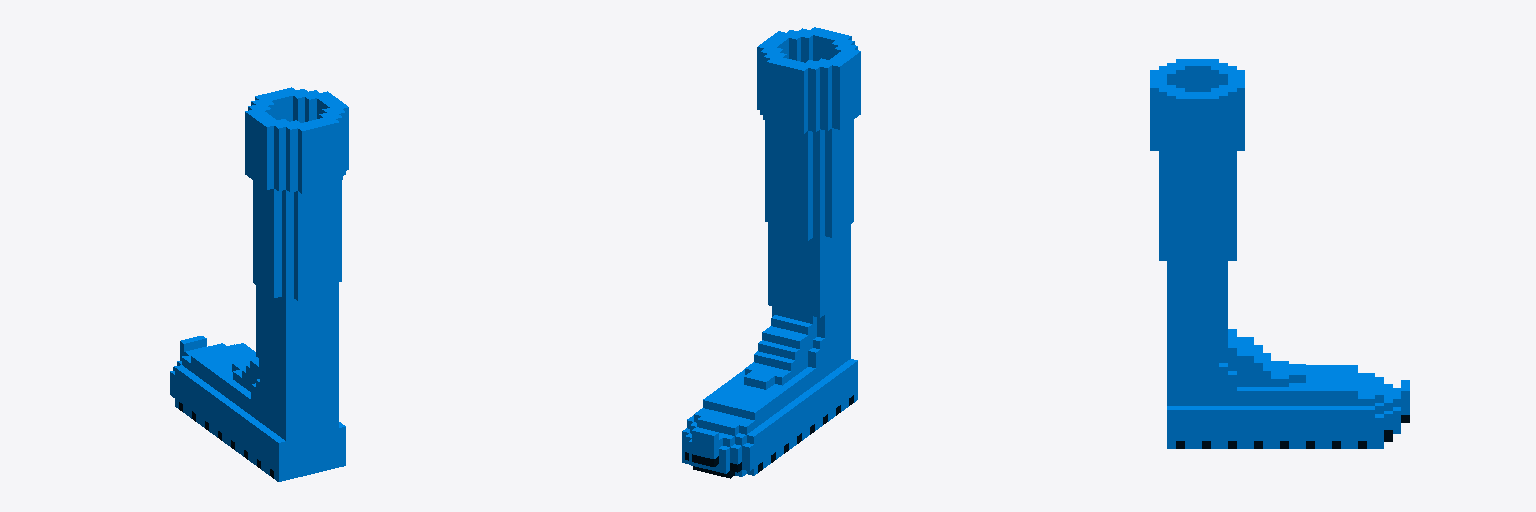
3 renders of one model, left to right at view 1: azimuth 30°, elevation 25°; view 2: azimuth 150°, elevation 25°; view 3: azimuth 270°, elevation 25°, orthographic.
Visible parts, largest first — view 1: J_wear; view 2: J_wear; view 3: J_wear.
Part boxes in pixels (bbox=[...]): J_wear: bbox=[170, 87, 348, 481]; J_wear: bbox=[682, 27, 860, 478]; J_wear: bbox=[1150, 59, 1409, 448].
Size of the model in its own units: 1.1 by 4.5 by 3.
Materials: 1 (1 with a texture image).